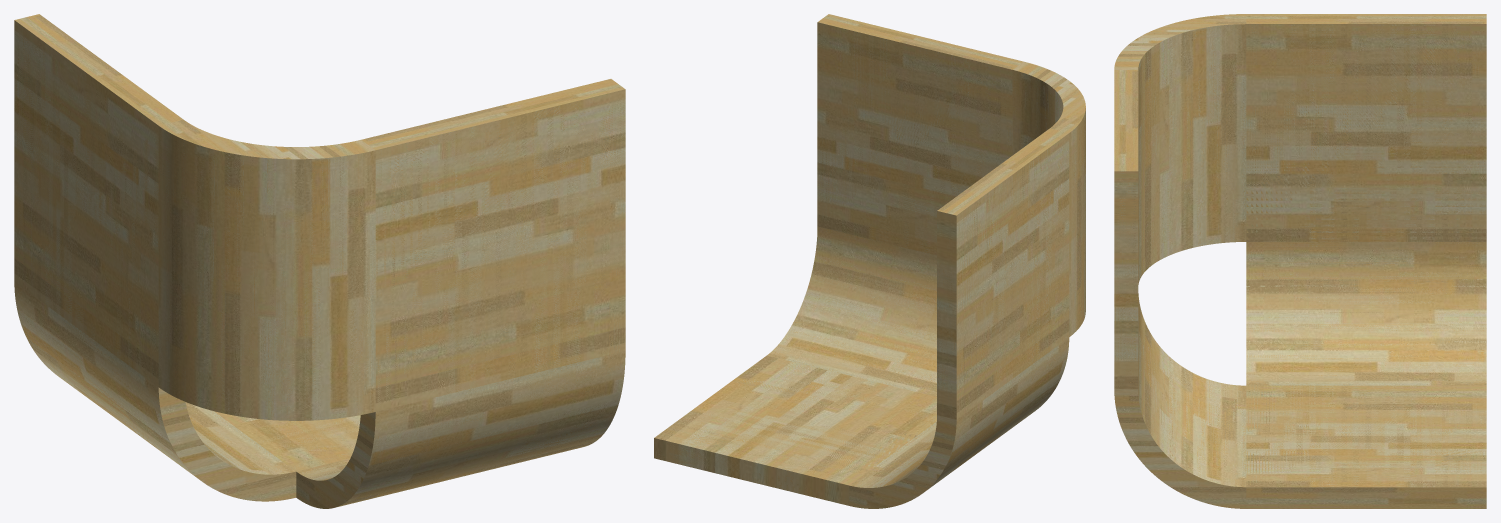
The model's file is SimpleRamp.dae.
3 renders of one model, left to right at view 1: azimuth 30°, elevation 25°; view 2: azimuth 150°, elevation 25°; view 3: azimuth 270°, elevation 25°, orthographic. The views are drawn at different scales.
Parts seen in each view (by area): view 1: instance_3 (×2), instance_4 (×2), instance_1 (×2), instance_0 (×2), instance_2 (×3), instance_5; view 2: instance_3 (×2), instance_1 (×2), instance_5, instance_0, instance_2 (×3), instance_4 (×3); view 3: instance_1 (×2), instance_2, instance_5 (×2), instance_4 (×2), instance_0 (×2), instance_3 (×2).
Boxes of the visible parts, x1,y1,x2,y2 form: instance_3 (×2): [361, 79, 625, 411]; instance_4 (×2): [158, 119, 375, 420]; instance_1 (×2): [14, 14, 183, 386]; instance_0 (×2): [296, 351, 625, 508]; instance_2 (×3): [14, 282, 296, 501]; instance_5: [214, 411, 360, 471]; instance_3 (×2): [817, 14, 1023, 255]; instance_1 (×2): [937, 128, 1069, 419]; instance_5: [654, 355, 936, 505]; instance_0: [767, 226, 936, 396]; instance_2 (×3): [849, 337, 1069, 508]; instance_4 (×3): [1012, 61, 1085, 336]; instance_1 (×2): [1246, 14, 1486, 241]; instance_2: [1246, 242, 1486, 385]; instance_5 (×2): [1246, 385, 1486, 508]; instance_4 (×2): [1114, 14, 1246, 284]; instance_0 (×2): [1114, 293, 1246, 508]; instance_3 (×2): [1114, 70, 1138, 389].
Bounding box in the file's own units: 61.02 × 61.02 × 61.02.
Materials: 2 (2 with a texture image).
